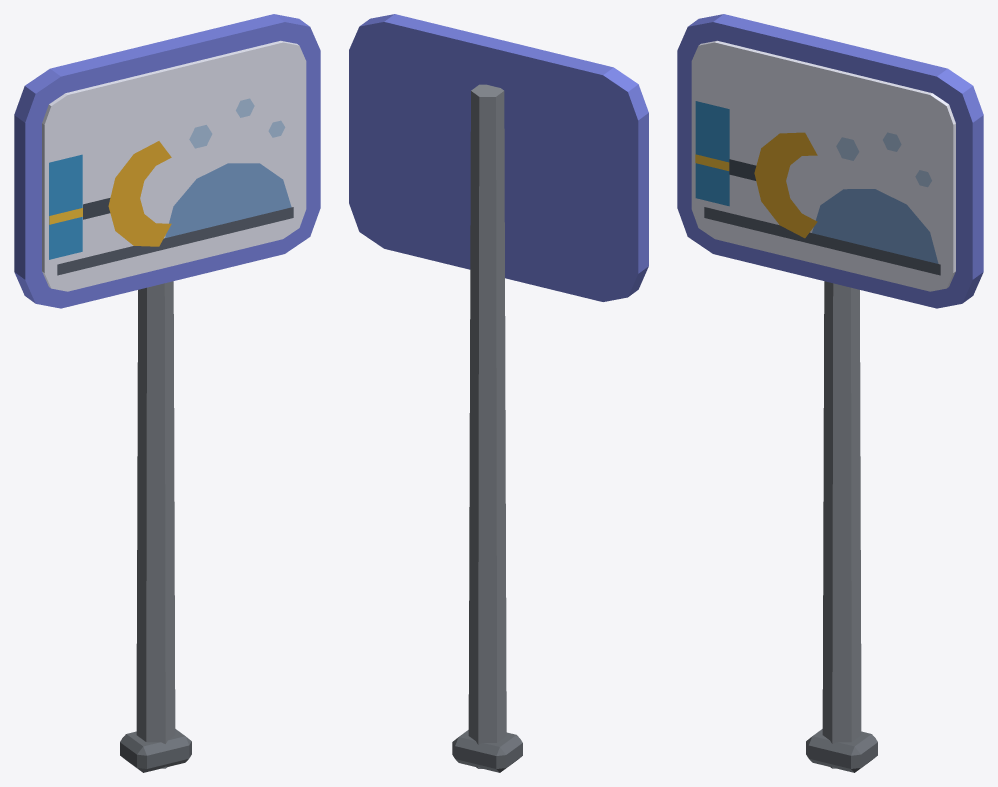
File: sign-plow.glb
3 renders of one model, left to right at view 1: azimuth 30°, elevation 25°; view 2: azimuth 150°, elevation 25°; view 3: azimuth 330°, elevation 25°, orthographic. The views are drawn at different scales.
Visible parts, largest first — view 1: sign-plow; view 2: sign-plow; view 3: sign-plow.
Boxes of the visible parts, x1=… form: sign-plow: x1=14, y1=14, x2=320, y2=772; sign-plow: x1=349, y1=14, x2=648, y2=772; sign-plow: x1=677, y1=14, x2=983, y2=772.
Size of the model in its own units: 1.4 by 3.28 by 0.265.
